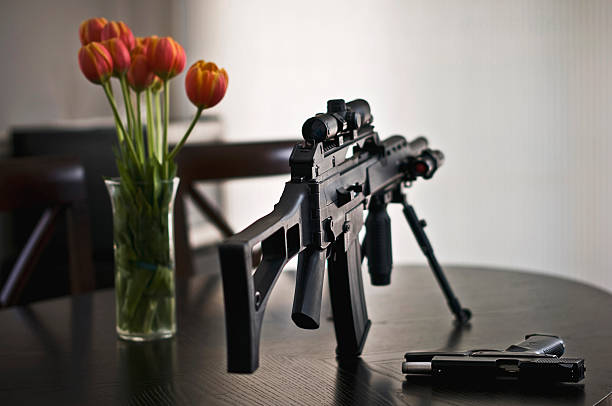pistol: (400, 332, 592, 396)
rifle: (212, 94, 473, 378)
